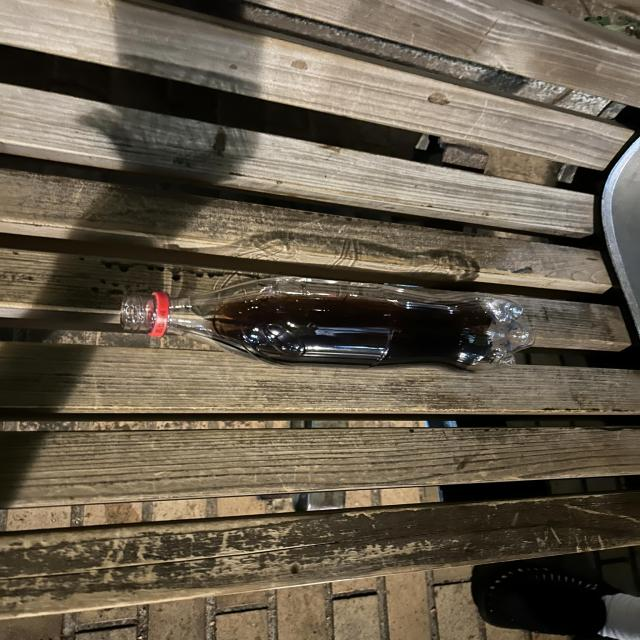low: (121, 277, 533, 370)
